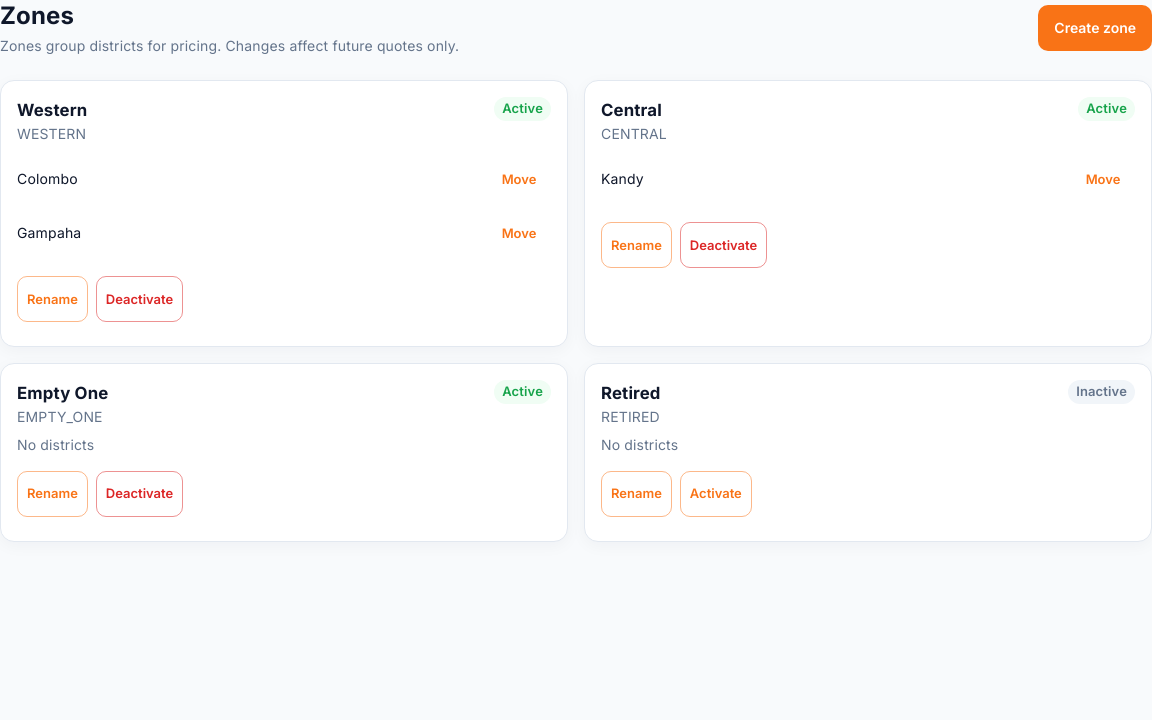
Test: TST-040 Member #5 admin zones page (FR-PRC-006) › create: validates the code, then sends code and name
The image size is (1152, 720).
Expected: the element named "Zone Western" is shown, x1=0 y1=80 x2=568 y2=347
Click the button "Create zone". click: click(1095, 28)
box: x1=1038 y1=5 x2=1151 y2=51
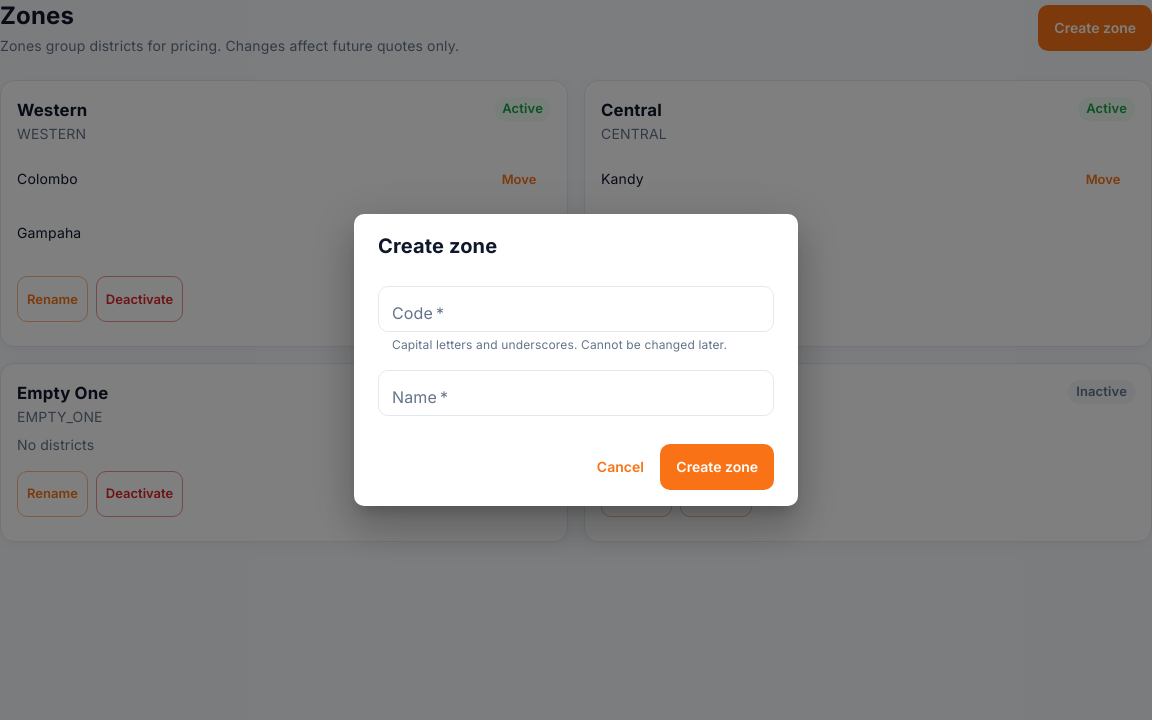
Type "east" into the field labelled "Code *". click: (576, 308)
box: x1=378 y1=286 x2=774 y2=332
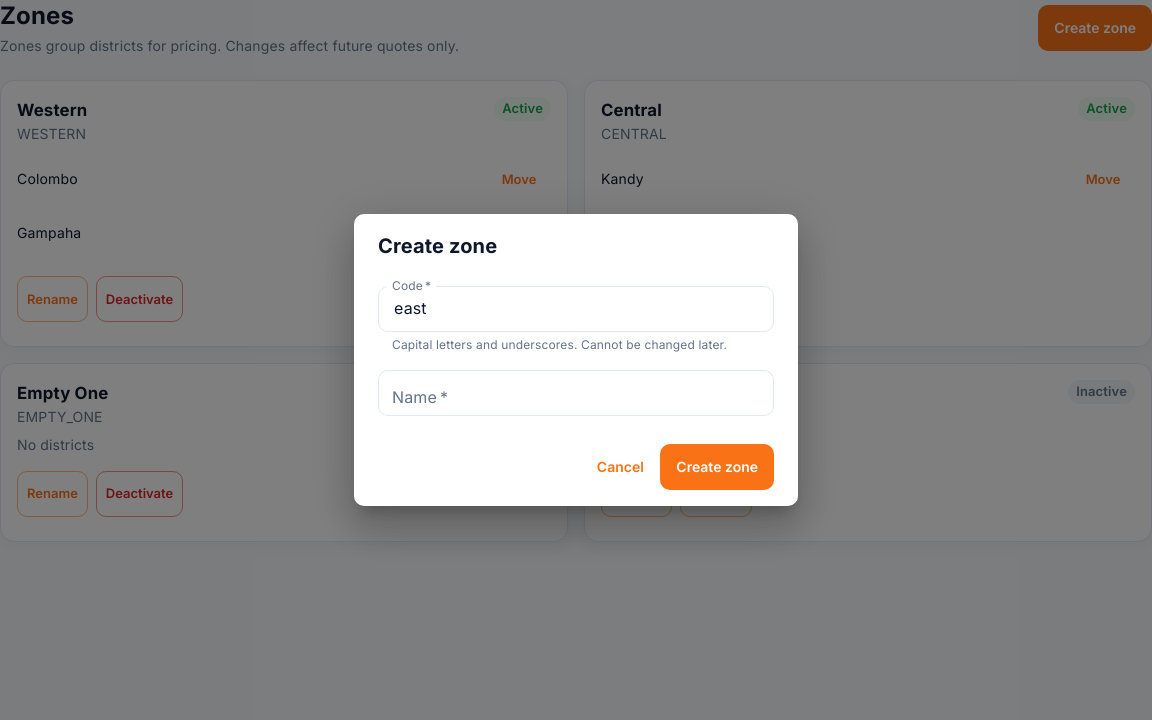
Type "East Coast" into the field labelled "Name *". click: (576, 394)
box: x1=378 y1=370 x2=774 y2=416
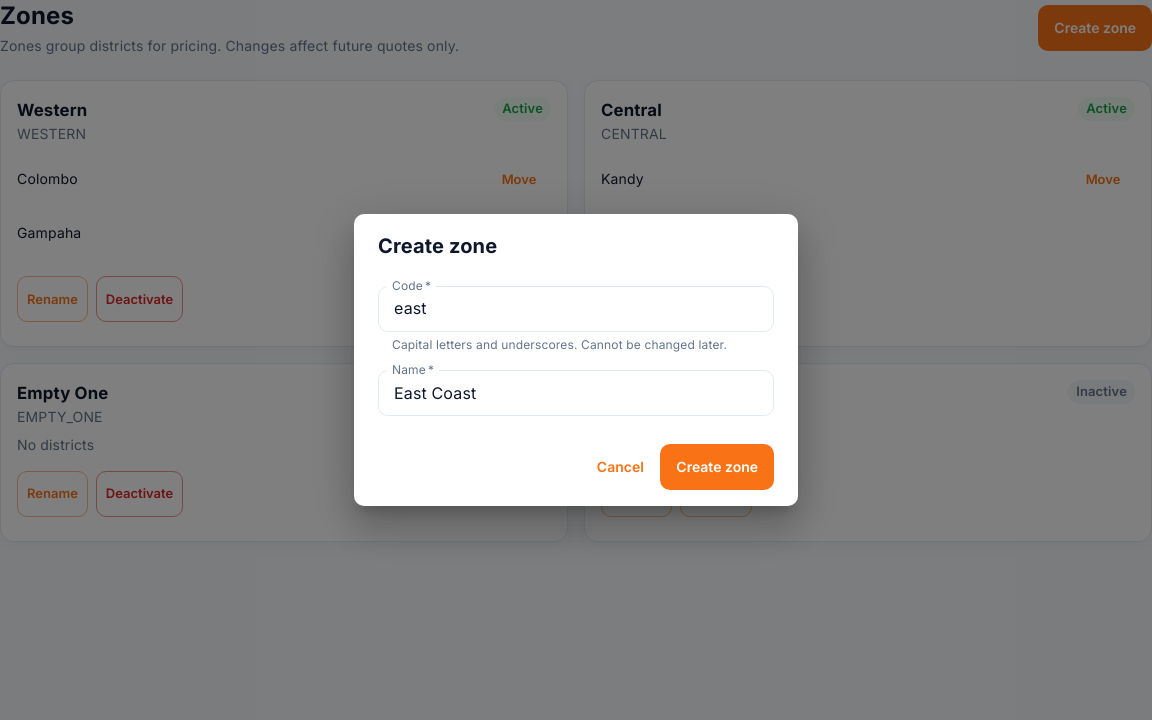
Click the button "Create zone". click: click(717, 468)
box: x1=660 y1=444 x2=774 y2=490
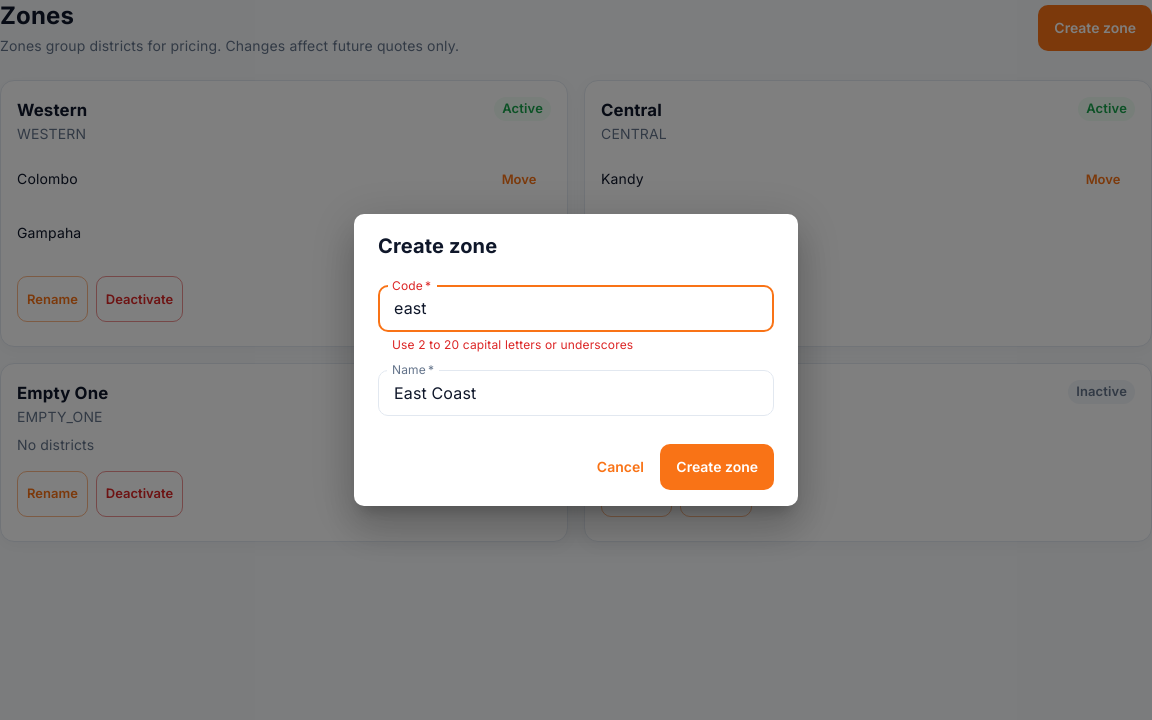
Result: the text "Use 2 to 20 capital letters or underscores" is shown at x1=392 y1=336 x2=633 y2=352
Replace the text in the field labelled "Code *" with "EAST_COAST". click: (576, 308)
box: x1=378 y1=286 x2=774 y2=332
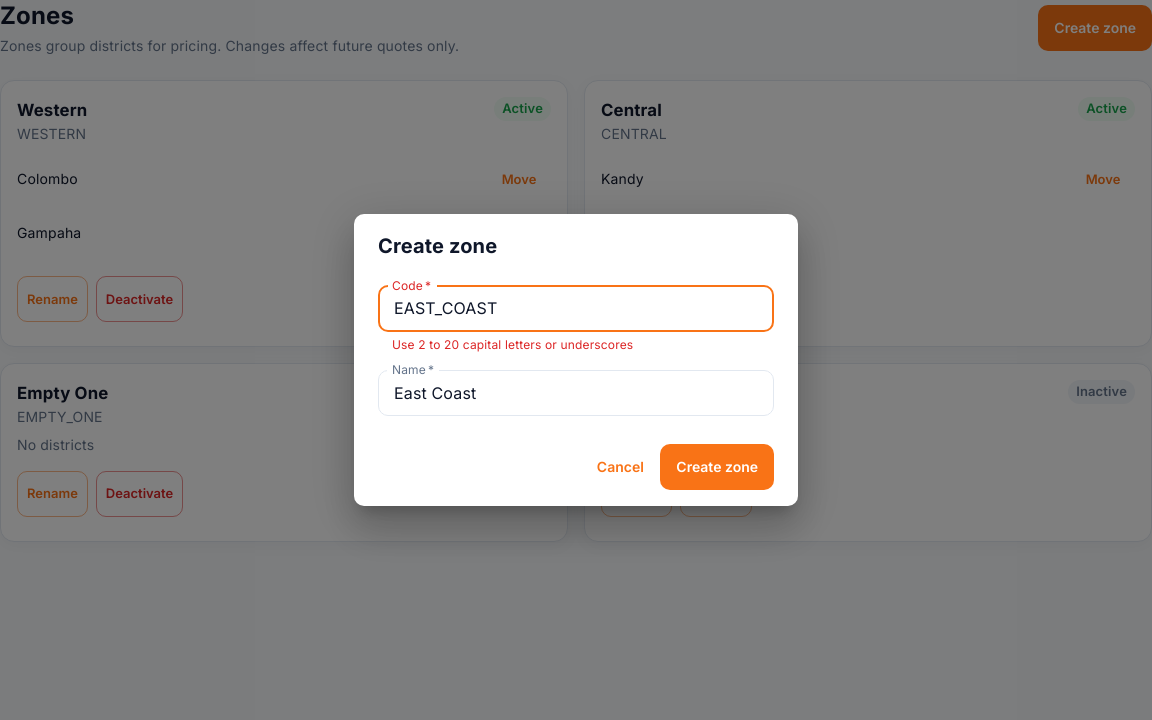
Click the button "Create zone". click: click(717, 468)
box: x1=660 y1=444 x2=774 y2=490
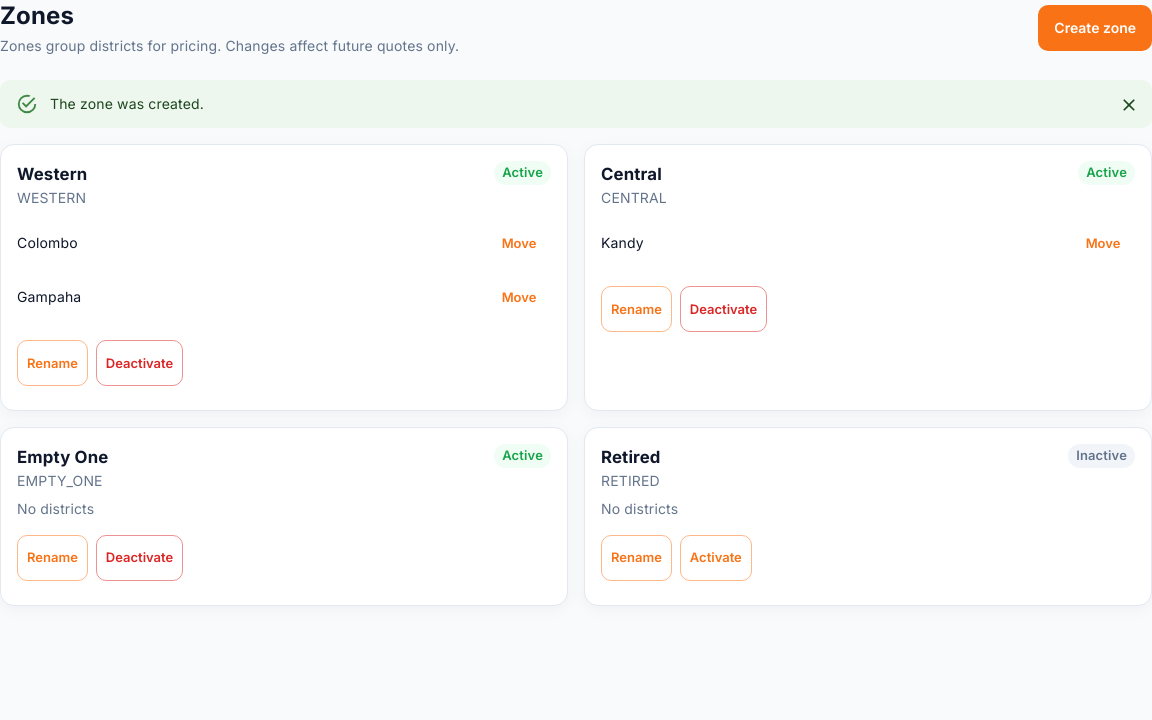
Result: the text "The zone was created." is shown at x1=50 y1=95 x2=204 y2=112
